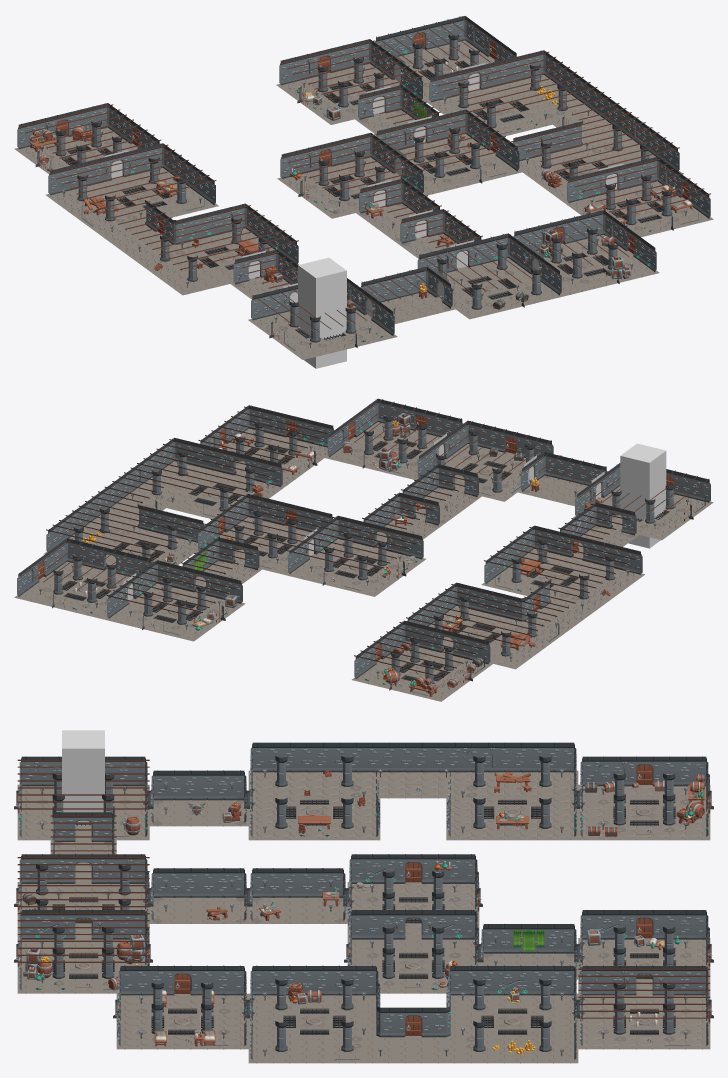
File: level31.glb
3 renders of one model, top to bottom at view 1: azimuth 30°, elevation 25°; view 2: azimuth 150°, elevation 25°; view 3: azimuth 270°, elevation 25°, orthographic. The views are drawn at different scales.
Parts seen in each view (by area): view 1: floor_tile_extralarge_grates (×12), arx_zone__102__spawn, wall.027, wall.016, wall_cracked.002, wall_cracked.006, wall_arched.003, wall.042, wall.025, wall_cracked.005; view 2: floor_tile_extralarge_grates (×12), arx_zone__102__spawn, wall.025, wall.018, wall_cracked.001, wall.032, wall.024, wall_doorway.015, wall.040, wall.033, wall.023, wall.027 (+3 smaller); view 3: floor_tile_extralarge_grates (×12), wall.018 (×4), wall.019 (×4), arx_zone__102__spawn, wall_doorway.011 (×2), wall_cracked.003 (×2), wall.025 (×2), wall.048, wall.051, wall.047, wall.049, wall.045 (+37 smaller).
Boxes of the visible parts, x1,y1,x2,y2 form: floor_tile_extralarge_grates (×12): (52, 56, 675, 302); arx_zone__102__spawn: (298, 257, 346, 368); wall.027: (260, 288, 285, 317); wall.016: (393, 269, 417, 298); wall_cracked.002: (576, 170, 601, 200); wall_cracked.006: (475, 235, 499, 265); wall_arched.003: (288, 53, 313, 82); wall.042: (486, 58, 511, 88); wall.025: (431, 18, 456, 48); wall_cracked.005: (188, 211, 212, 241); floor_tile_extralarge_grates (×12): (50, 436, 586, 684); arx_zone__102__spawn: (620, 443, 666, 548); wall.025: (678, 472, 701, 500); wall.018: (553, 454, 576, 482); wall_cracked.001: (302, 418, 325, 446); wall.032: (476, 422, 499, 449); wall.024: (391, 528, 414, 556); wall_doorway.015: (498, 428, 521, 453); wall.040: (205, 445, 228, 473); wall.033: (487, 590, 510, 618); wall.023: (458, 633, 481, 660); wall.027: (75, 540, 98, 568); floor_tile_extralarge_grates (×12): (50, 798, 677, 1035); wall.018 (×4): (166, 770, 528, 953); wall.019 (×4): (199, 770, 561, 953); arx_zone__102__spawn: (62, 730, 104, 825); wall_doorway.011 (×2): (397, 854, 660, 939); wall_cracked.003 (×2): (364, 854, 627, 939); wall.025 (×2): (430, 854, 693, 939); wall.048: (397, 742, 429, 772); wall.051: (496, 742, 528, 772); wall.047: (364, 742, 396, 772); wall.049: (430, 742, 462, 772); wall.045: (298, 742, 330, 772).
Size of the model in its own units: 84 by 14.56 by 84.86.
Materials: 69 (69 with a texture image).
